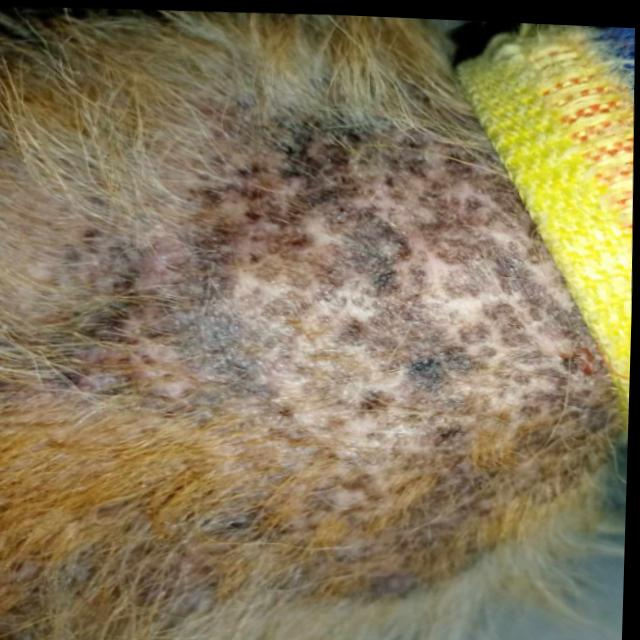demodicosis: (169, 99, 545, 553)
